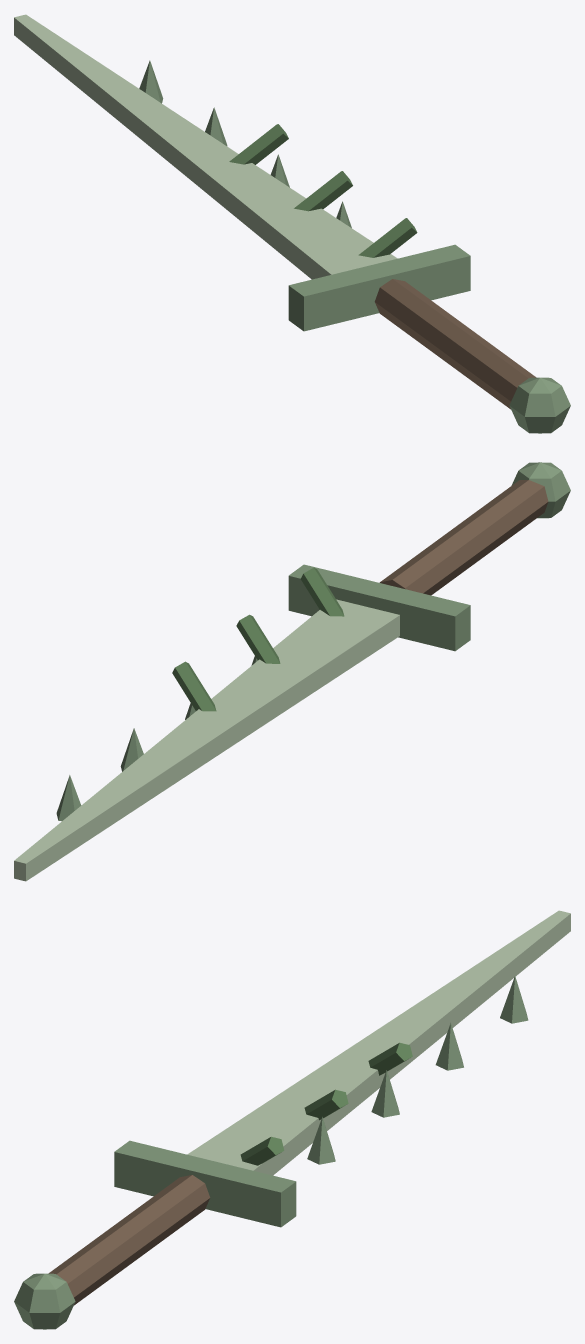
File: DF_CanopyFang.fbx
3 views of the same model, one above another, from view 1: azimuth 30°, elevation 25°; view 2: azimuth 150°, elevation 25°; view 3: azimuth 330°, elevation 25° (orthographic).
Visible parts, largest first — view 1: DF_CanopyFang; view 2: DF_CanopyFang; view 3: DF_CanopyFang.
Part boxes in pixels (x1,y1,x2,y2): DF_CanopyFang: [14, 14, 570, 433]; DF_CanopyFang: [14, 462, 570, 881]; DF_CanopyFang: [14, 910, 570, 1329].
Size of the model in its own units: 0.75 by 0.3084 by 4.17.
